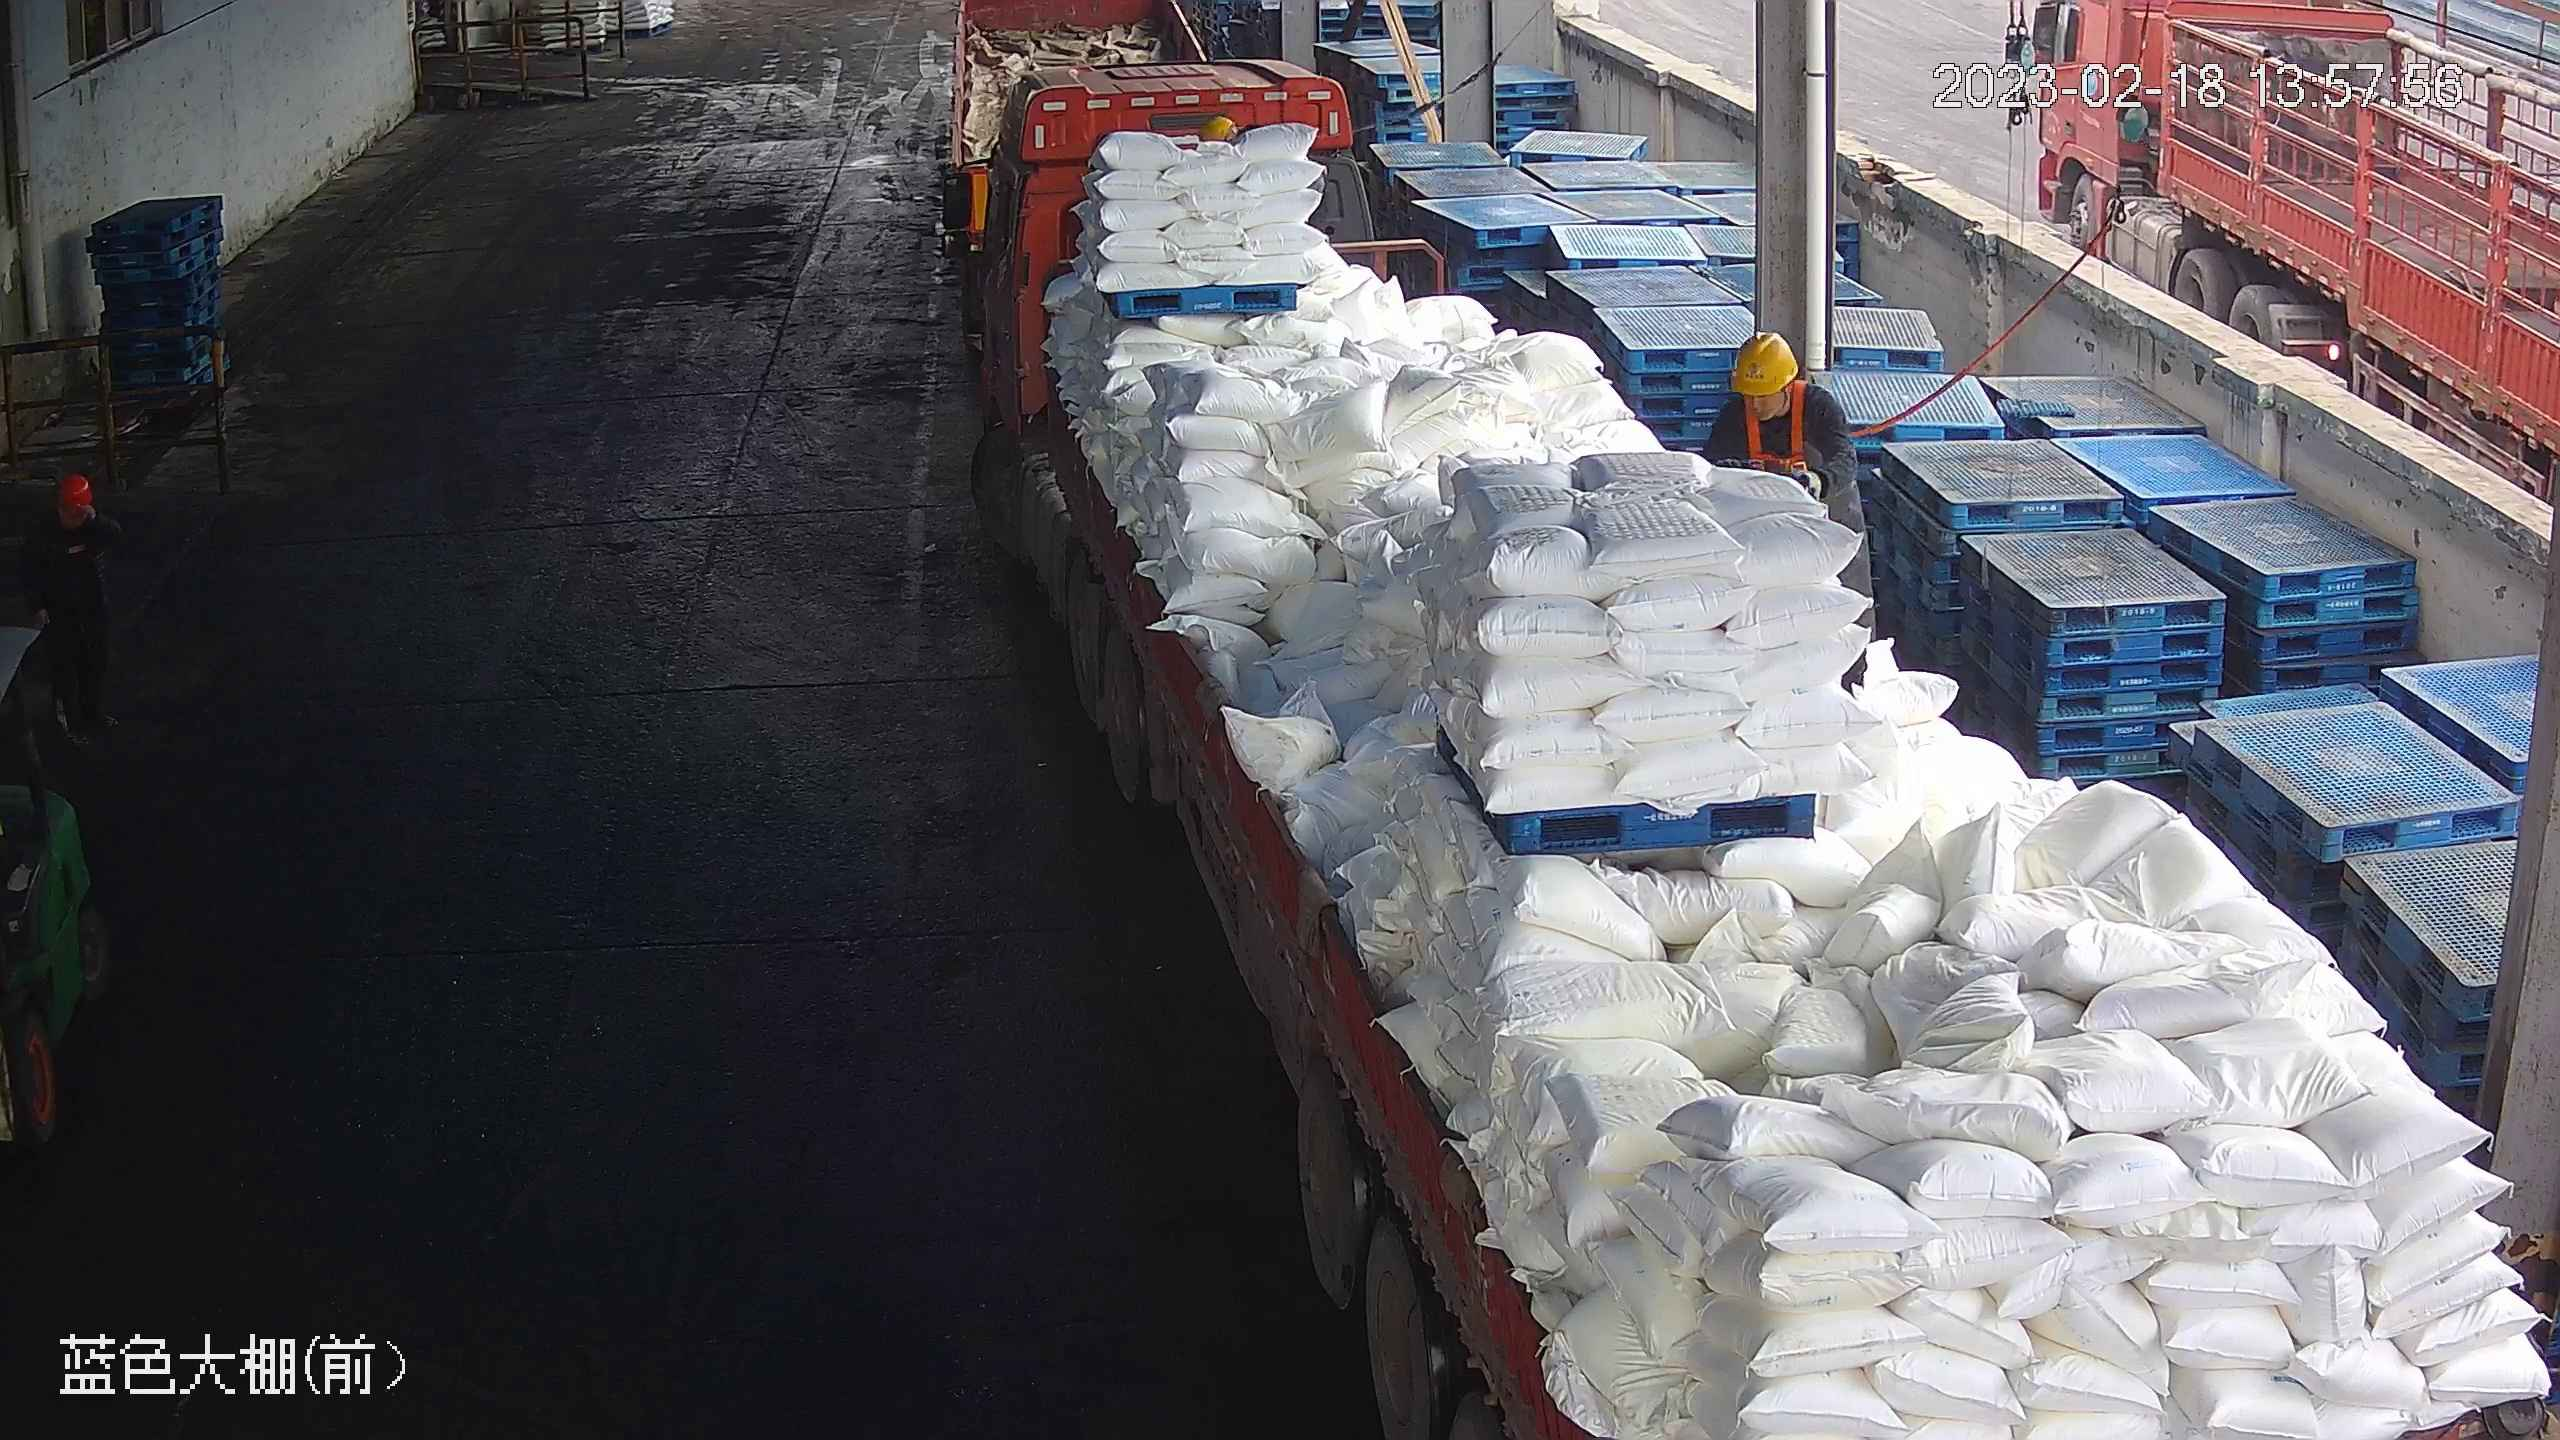belt: (1742, 390, 1838, 486)
head: (1714, 327, 1846, 436), (39, 472, 112, 568)
helmet: (1729, 328, 1798, 397), (55, 469, 94, 506), (1202, 112, 1238, 140)
people: (26, 469, 126, 749)
truck: (965, 67, 2556, 1440), (2020, 4, 2560, 511)
